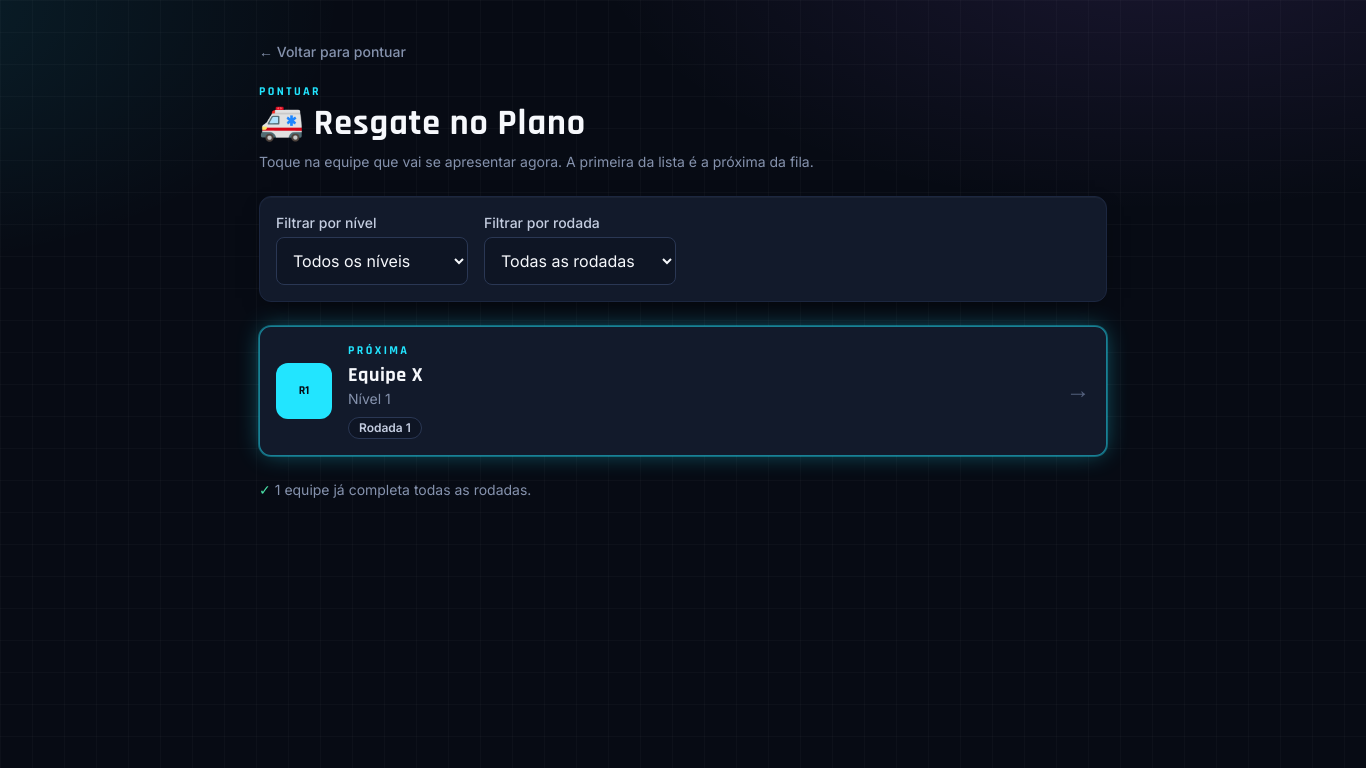
Scenario: PontuarPage › o contador de equipes completas tambem respeita o filtro de nivel
The image size is (1366, 768).
Expected: the heading "Equipe X" is shown, [348,362,423,388]
Expected: the text "✓ 1 equipe já completa todas as rodadas." is shown, [259,481,531,498]
Select "Nível 1" in the dropdown labelled "Filtrar por nível" at (372, 261), box [276,237,468,285]
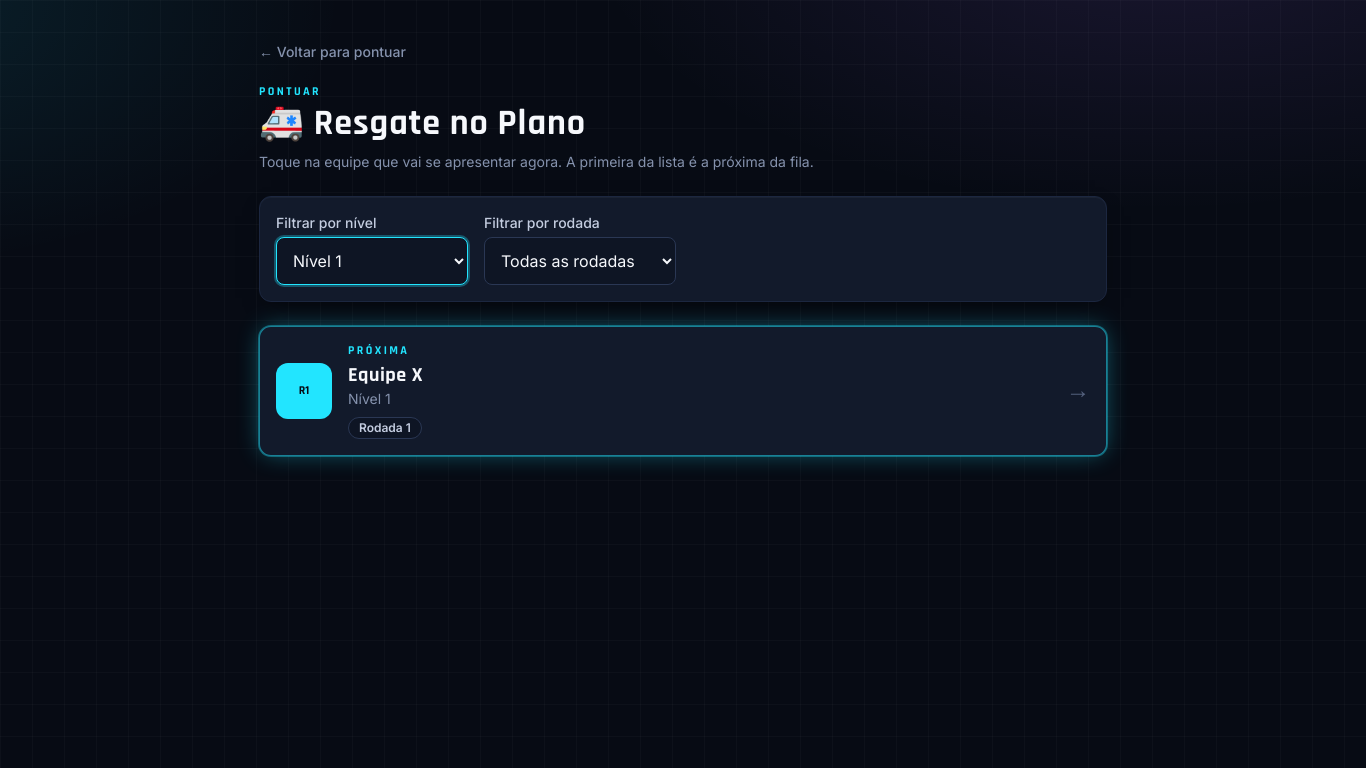
Expected: the text "✓ 1 equipe já completa todas as rodadas." is gone
